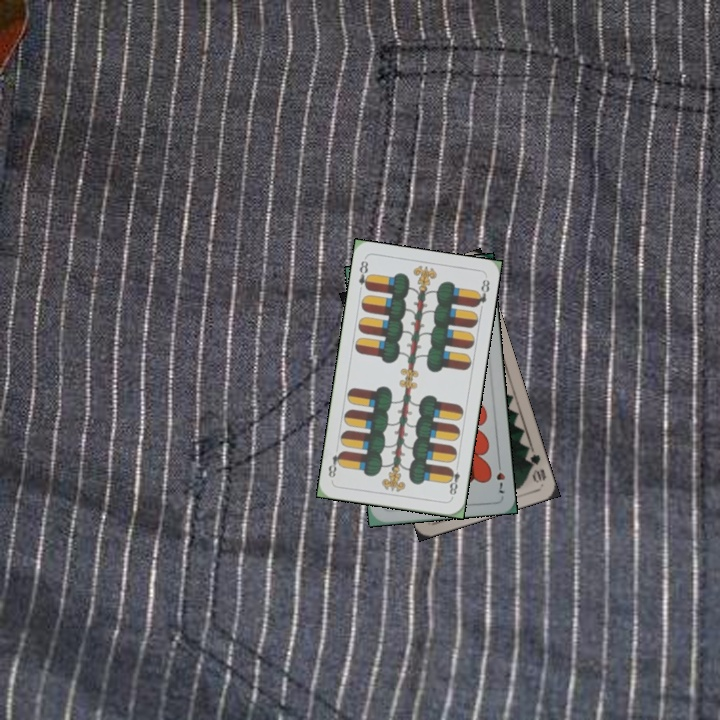E8: (444, 460, 462, 500), (355, 256, 373, 292)
G10: (522, 445, 549, 486)
H7: (492, 457, 508, 496)
